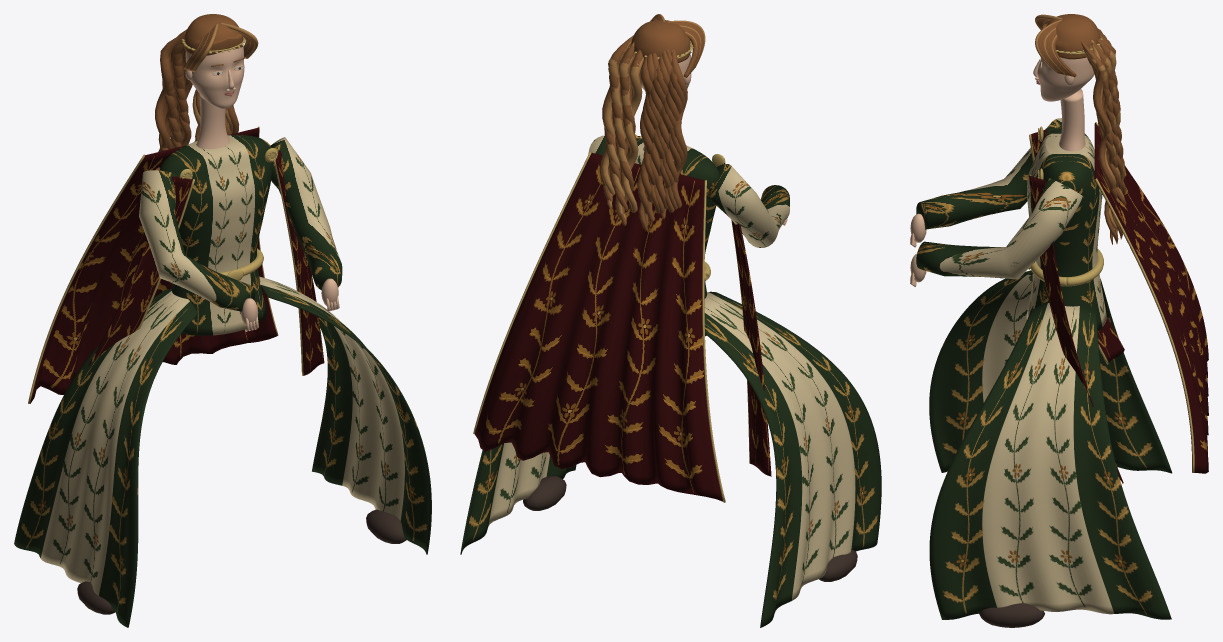
The model's file is princess-v7-mounted.glb.
The picture shows the model from 3 angles, left to right: view 1: azimuth 30°, elevation 25°; view 2: azimuth 150°, elevation 25°; view 3: azimuth 270°, elevation 25°; orthographic projection.
Parts seen in each view (by area): view 1: MorrisPrincess_surface, cape_surface, body_surface, head_surface, armL_surface, armR_surface; view 2: cape_surface, MorrisPrincess_surface, head_surface, armL_surface, body_surface; view 3: MorrisPrincess_surface, cape_surface, body_surface, head_surface, armR_surface, armL_surface.
Boxes of the visible parts, <box> form: MorrisPrincess_surface: <box>14,276,431,627</box>; cape_surface: <box>28,126,324,403</box>; body_surface: <box>159,94,277,335</box>; head_surface: <box>155,14,258,170</box>; armL_surface: <box>139,170,258,331</box>; armR_surface: <box>270,137,342,312</box>; cape_surface: <box>473,136,771,502</box>; MorrisPrincess_surface: <box>460,291,881,627</box>; head_surface: <box>599,14,705,229</box>; armL_surface: <box>706,164,789,247</box>; body_surface: <box>635,134,725,336</box>; MorrisPrincess_surface: <box>929,270,1172,627</box>; cape_surface: <box>1029,122,1208,483</box>; body_surface: <box>1026,89,1106,330</box>; head_surface: <box>1033,14,1126,244</box>; armR_surface: <box>910,178,1083,286</box>; armL_surface: <box>910,118,1061,247</box>.
Size of the model in its own units: 0.948 by 1.52 by 0.767.
Materials: 10 (2 with a texture image).
